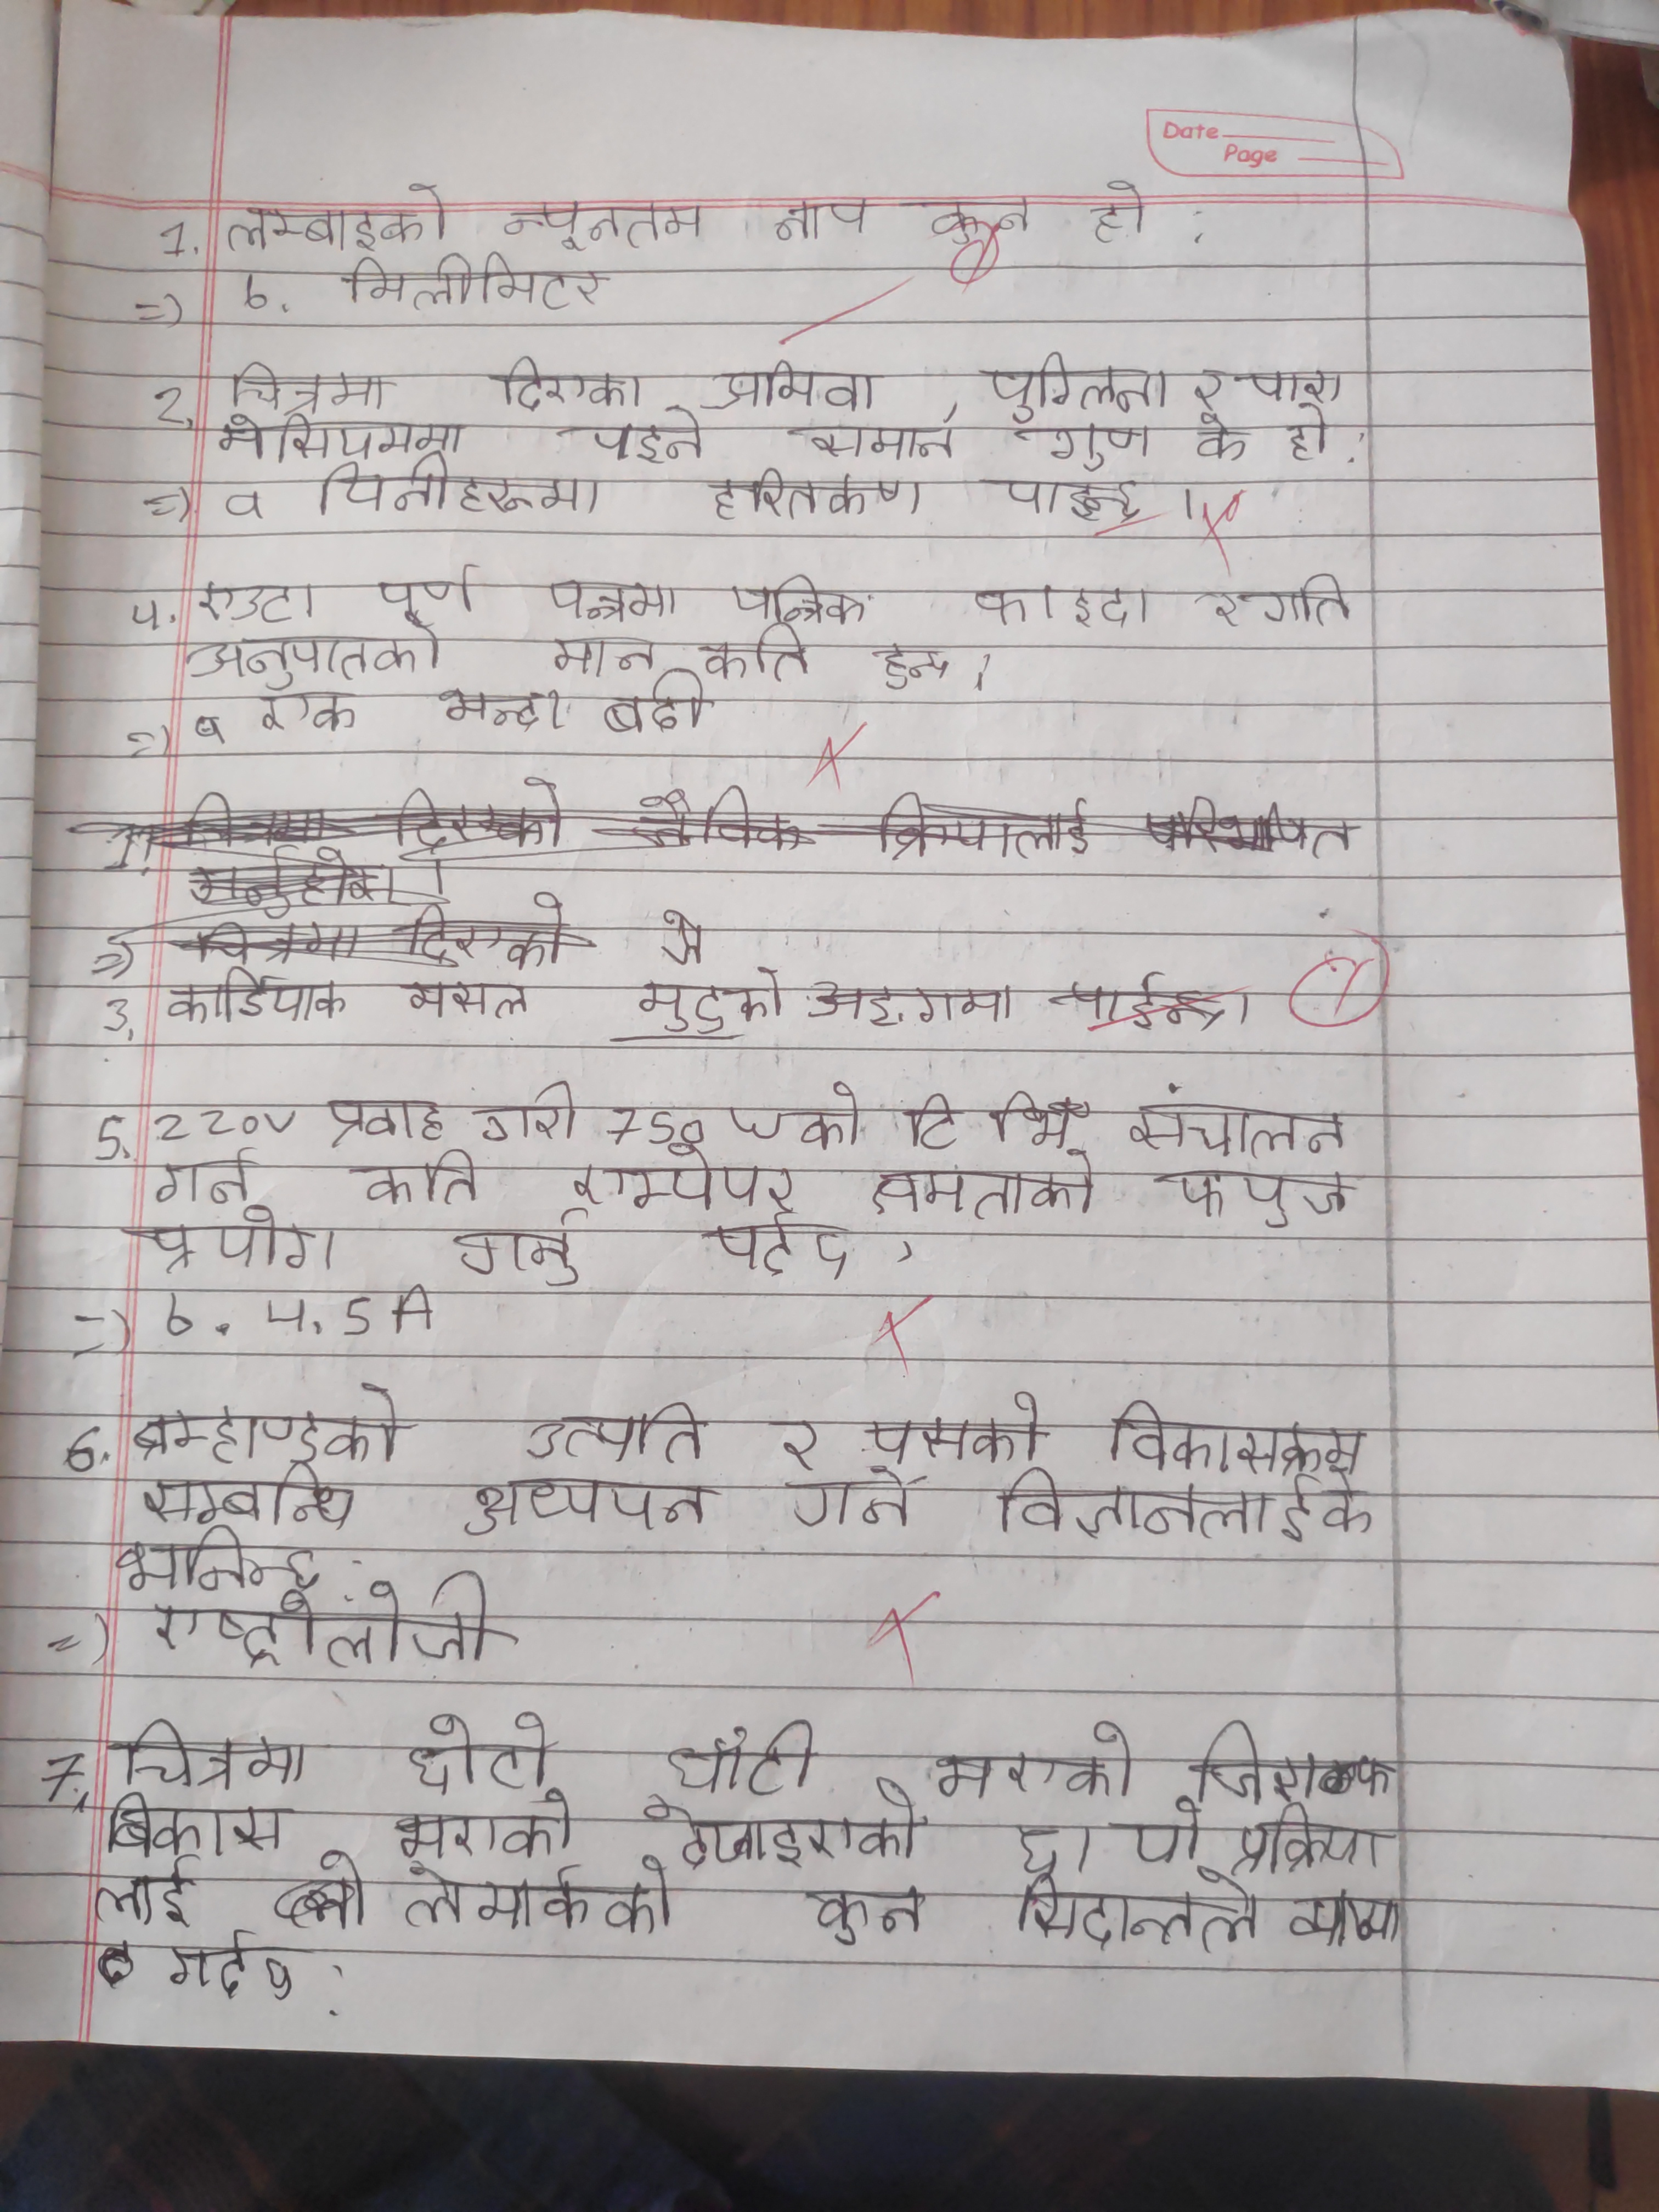text: (146, 1583, 516, 1669), (997, 1468, 1321, 1547), (134, 1383, 416, 1467), (641, 1791, 925, 1872), (399, 1860, 674, 1940), (314, 456, 603, 526), (1011, 1874, 1267, 1952), (1107, 1395, 1361, 1474), (1124, 1080, 1356, 1160), (856, 1157, 1108, 1226), (185, 620, 450, 686), (936, 1717, 1134, 1804), (1194, 1719, 1396, 1804), (347, 251, 617, 314), (570, 1143, 805, 1214), (460, 1470, 711, 1536), (223, 181, 450, 251), (115, 1524, 322, 1594), (1164, 1158, 1354, 1233), (113, 1717, 307, 1791), (864, 1386, 1044, 1465), (983, 352, 1175, 421), (528, 1397, 713, 1468), (141, 1467, 361, 1526), (666, 1717, 823, 1797), (805, 977, 1016, 1036), (101, 1792, 293, 1857), (404, 1707, 551, 1791), (143, 1209, 342, 1270), (1236, 1804, 1398, 1878), (220, 415, 469, 462), (706, 469, 924, 521), (394, 1796, 575, 1858), (638, 960, 788, 1035), (500, 197, 711, 249), (903, 1089, 1073, 1153), (708, 361, 887, 421), (709, 1212, 864, 1280), (972, 580, 1152, 637), (160, 968, 345, 1024), (779, 1463, 925, 1531), (221, 359, 399, 413), (995, 465, 1143, 529), (498, 350, 645, 415), (450, 1219, 579, 1289), (725, 571, 868, 631), (798, 1888, 929, 1952), (352, 1144, 484, 1207), (795, 415, 962, 463), (697, 620, 816, 686), (94, 1857, 202, 1928), (551, 571, 680, 631), (577, 408, 709, 465), (467, 1082, 586, 1144), (319, 1089, 450, 1144), (1290, 1890, 1403, 1952), (375, 561, 484, 625), (1039, 416, 1154, 477), (605, 674, 716, 737), (1251, 571, 1363, 632), (401, 975, 535, 1026), (195, 575, 319, 629), (444, 683, 565, 737), (162, 1930, 253, 1996), (152, 1148, 258, 1204), (549, 631, 655, 681), (795, 1078, 866, 1153), (924, 193, 1039, 239), (1124, 1801, 1201, 1867), (1244, 357, 1347, 404), (1319, 1467, 1378, 1545), (1084, 176, 1152, 244), (263, 690, 361, 737), (774, 199, 875, 242), (871, 643, 948, 695), (1192, 411, 1253, 469), (762, 1418, 826, 1472), (1014, 1818, 1068, 1879), (1281, 401, 1333, 462), (1188, 362, 1229, 420)
